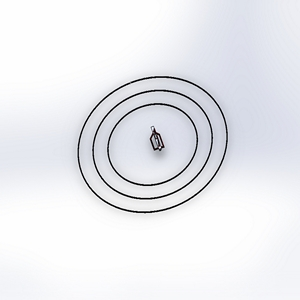circle: (71, 67, 234, 222)
submarine: (141, 120, 172, 158)
